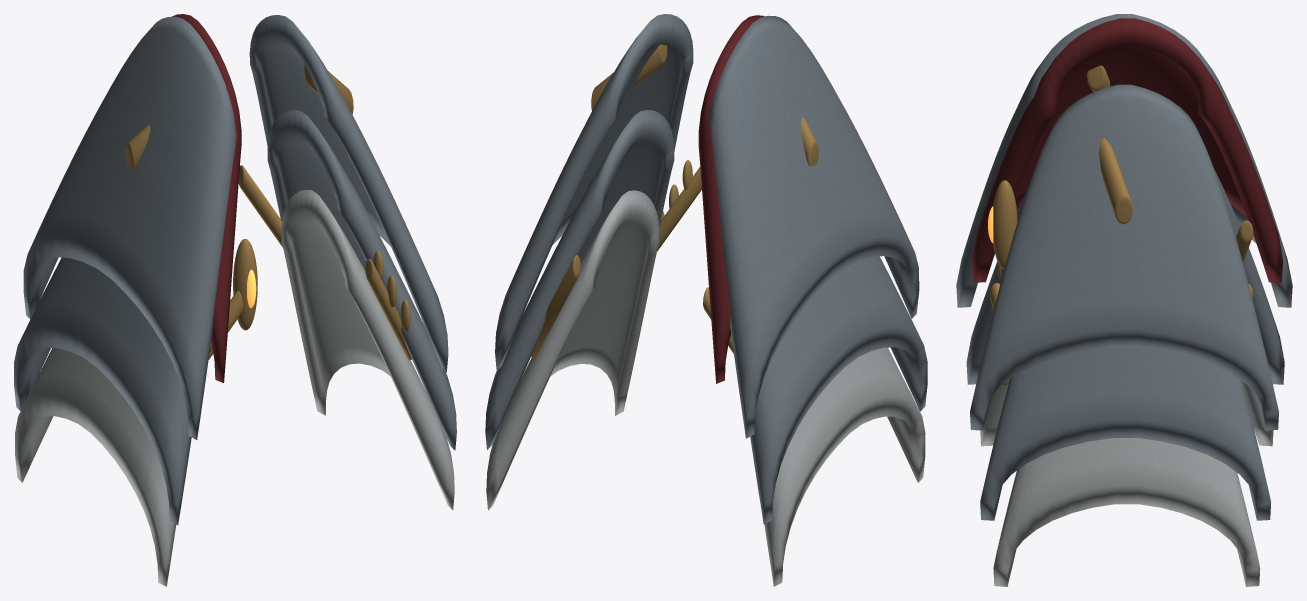
Rendered from hero_mantle.glb.
3 views of the same model, side by side, from view 1: azimuth 30°, elevation 25°; view 2: azimuth 150°, elevation 25°; view 3: azimuth 270°, elevation 25° (orthographic). The views are drawn at different scales.
Parts seen in each view (by area): view 1: hero_mantle cold worn steel, hero_mantle matron silver, hero_mantle dull relic gold, hero_mantle choir cloth; view 2: hero_mantle cold worn steel, hero_mantle matron silver, hero_mantle choir cloth, hero_mantle dull relic gold; view 3: hero_mantle cold worn steel, hero_mantle choir cloth, hero_mantle matron silver, hero_mantle dull relic gold.
Part boxes in pixels (x1=…): hero_mantle cold worn steel: x1=14, y1=15, x2=456, y2=525; hero_mantle matron silver: x1=15, y1=190, x2=454, y2=586; hero_mantle dull relic gold: x1=126, y1=64, x2=411, y2=360; hero_mantle choir cloth: x1=172, y1=14, x2=241, y2=382; hero_mantle cold worn steel: x1=485, y1=14, x2=927, y2=524; hero_mantle matron silver: x1=486, y1=190, x2=925, y2=586; hero_mantle choir cloth: x1=698, y1=15, x2=764, y2=383; hero_mantle dull relic gold: x1=531, y1=44, x2=818, y2=358; hero_mantle cold worn steel: x1=956, y1=14, x2=1292, y2=520; hero_mantle choir cloth: x1=971, y1=18, x2=1282, y2=282; hero_mantle matron silver: x1=980, y1=381, x2=1273, y2=586; hero_mantle dull relic gold: x1=990, y1=65, x2=1253, y2=385.
Size of the model in its own units: 1.13 by 1.7 by 1.09.
5 materials, 4 textured.
